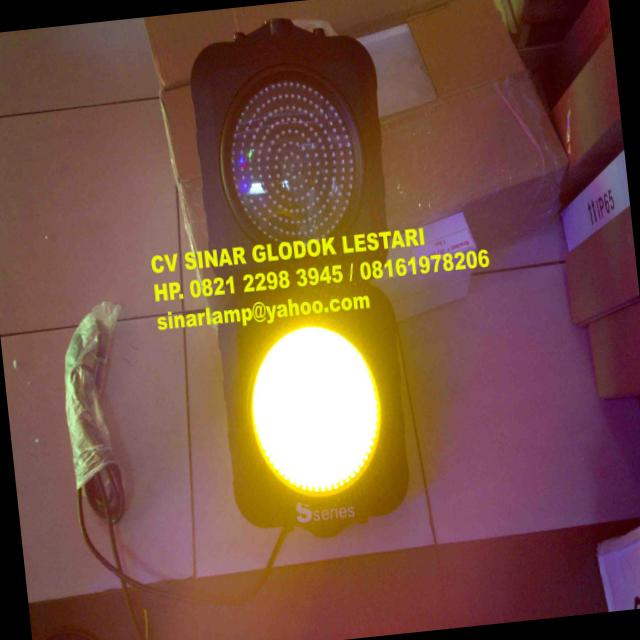yellow-lights: (241, 316, 390, 502)
